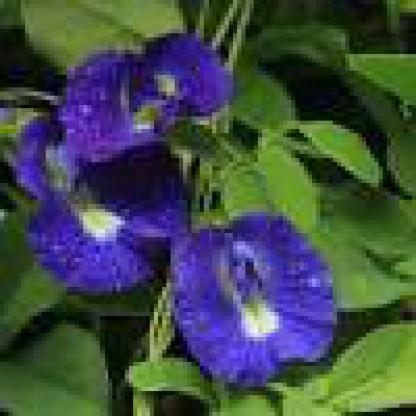Kenanga: (43, 213, 118, 288)
